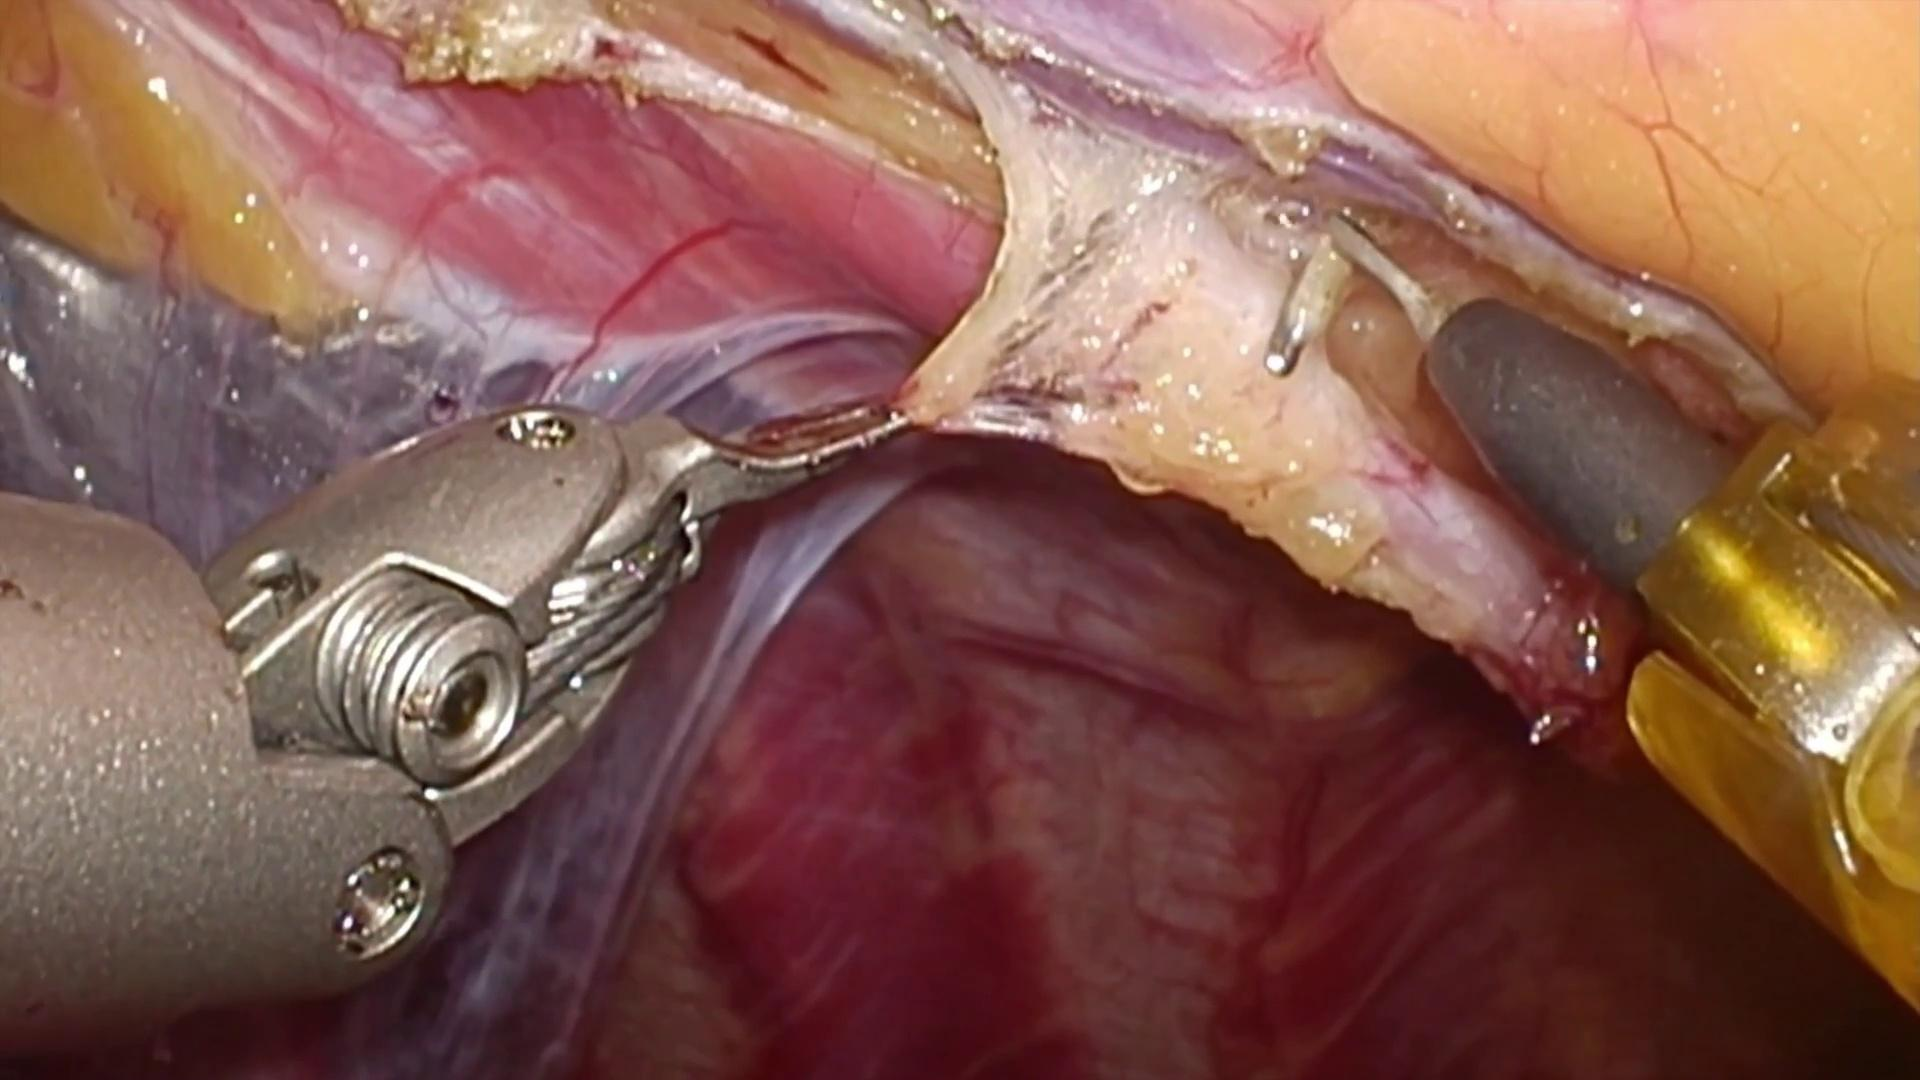Cautery_Spatula: (1320, 193, 1738, 576)
Debakey: (644, 368, 918, 539)
